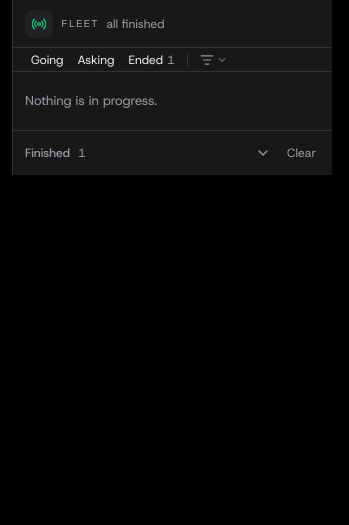
Test case: the fleet column › says a removed worktree is removed rather than offering a path that is gone
This screenshot has width=349, height=525.
Click the button "Finished 1": (47, 153) x1=13 y1=131 x2=279 y2=175
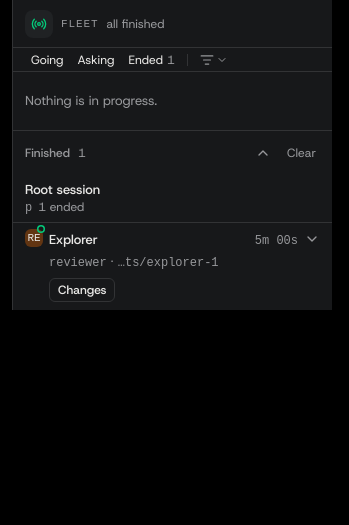
Click the button "RE Explorer 5m 00s": (73, 240) x1=25 y1=231 x2=320 y2=249
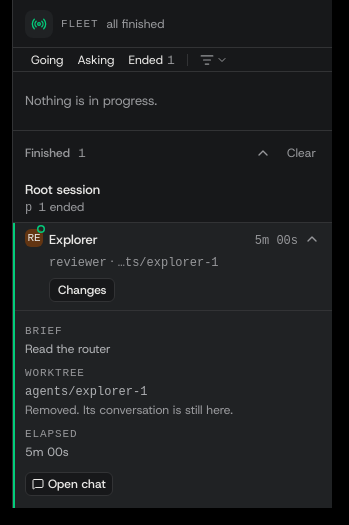
Expected: the element that starts with "Explorer" shows "agents/explorer-1", x1=25 y1=385 x2=147 y2=399
Expected: the element that starts with "Explorer" shows "Removed.", x1=25 y1=402 x2=233 y2=418
